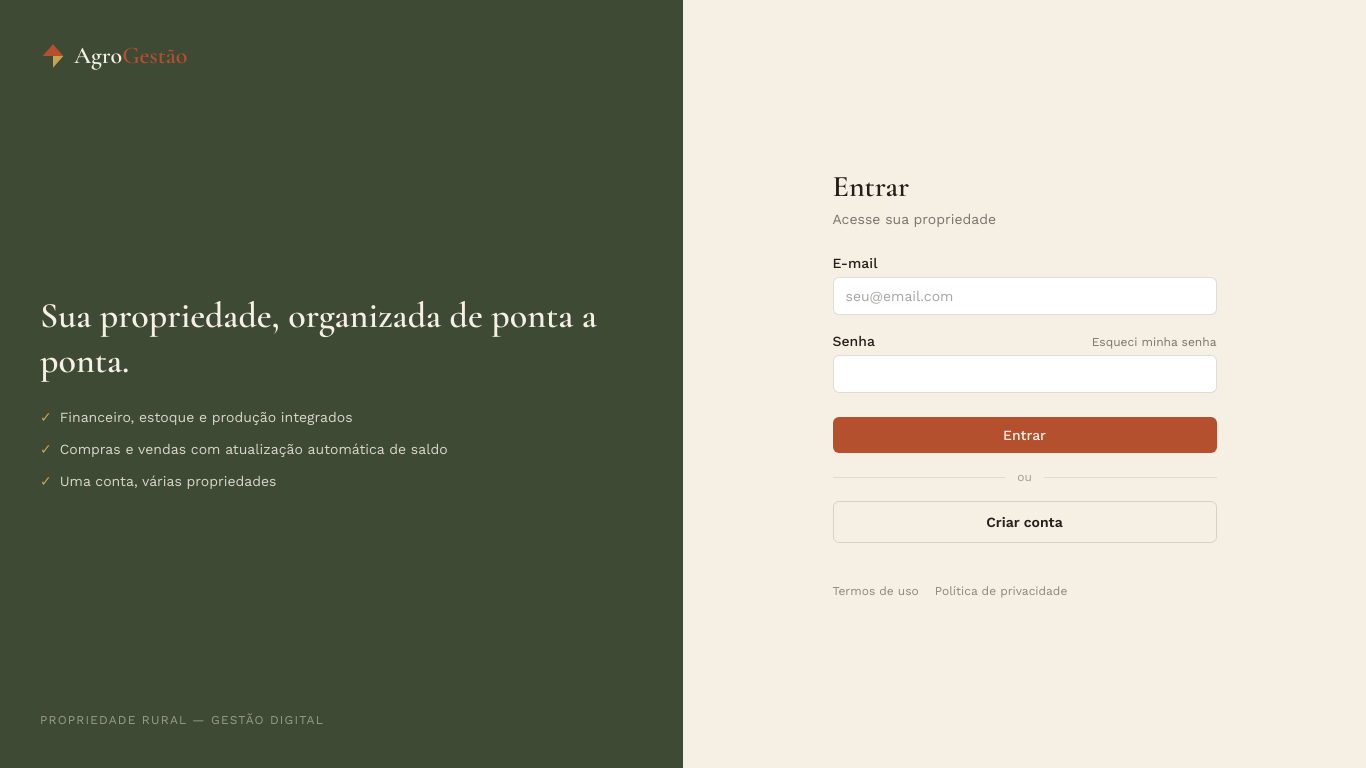
Test: LoginPage › mostra o erro do servidor
Type "ana@teste.dev" into the field labelled "E-mail" at (1024, 296), box left=832, top=277, right=1216, bottom=315
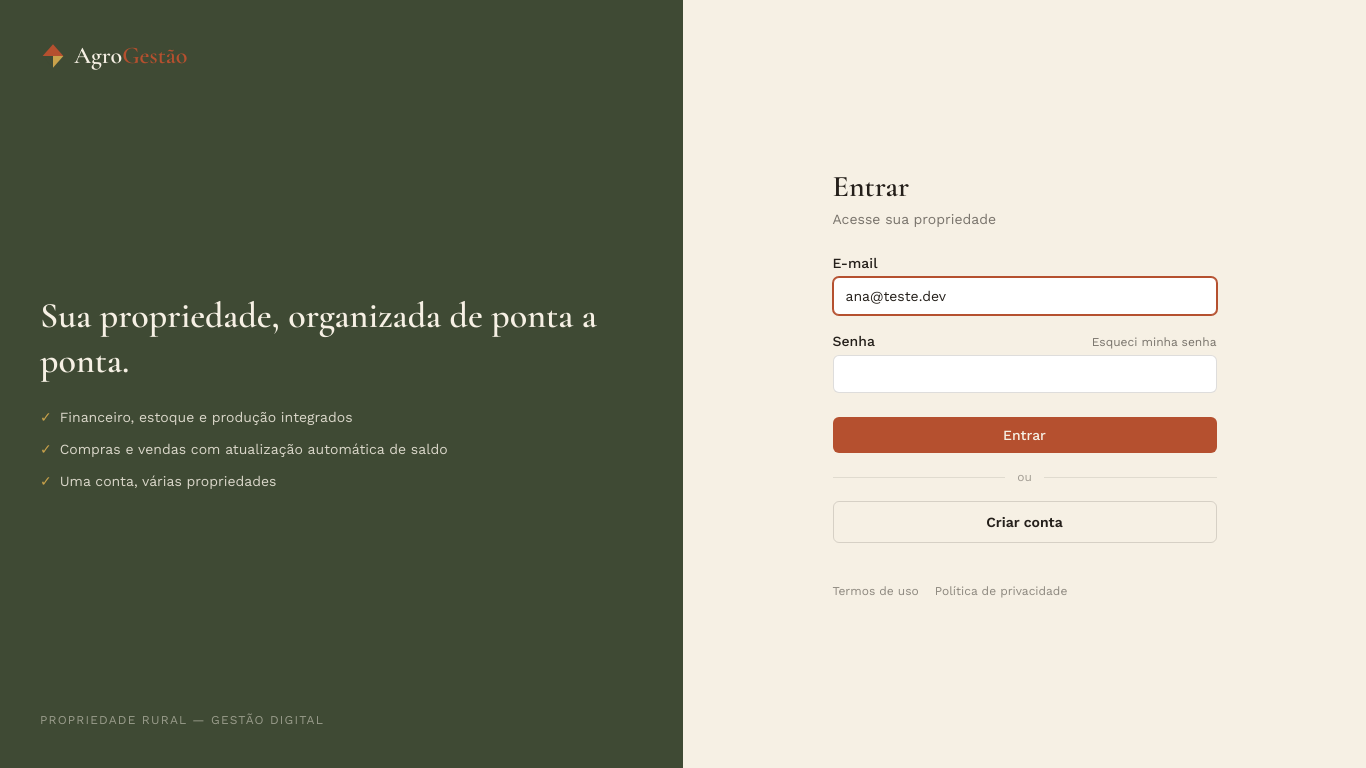
Type "senha1234" into the password field labelled "Senha" at (1024, 374), box left=832, top=355, right=1216, bottom=393
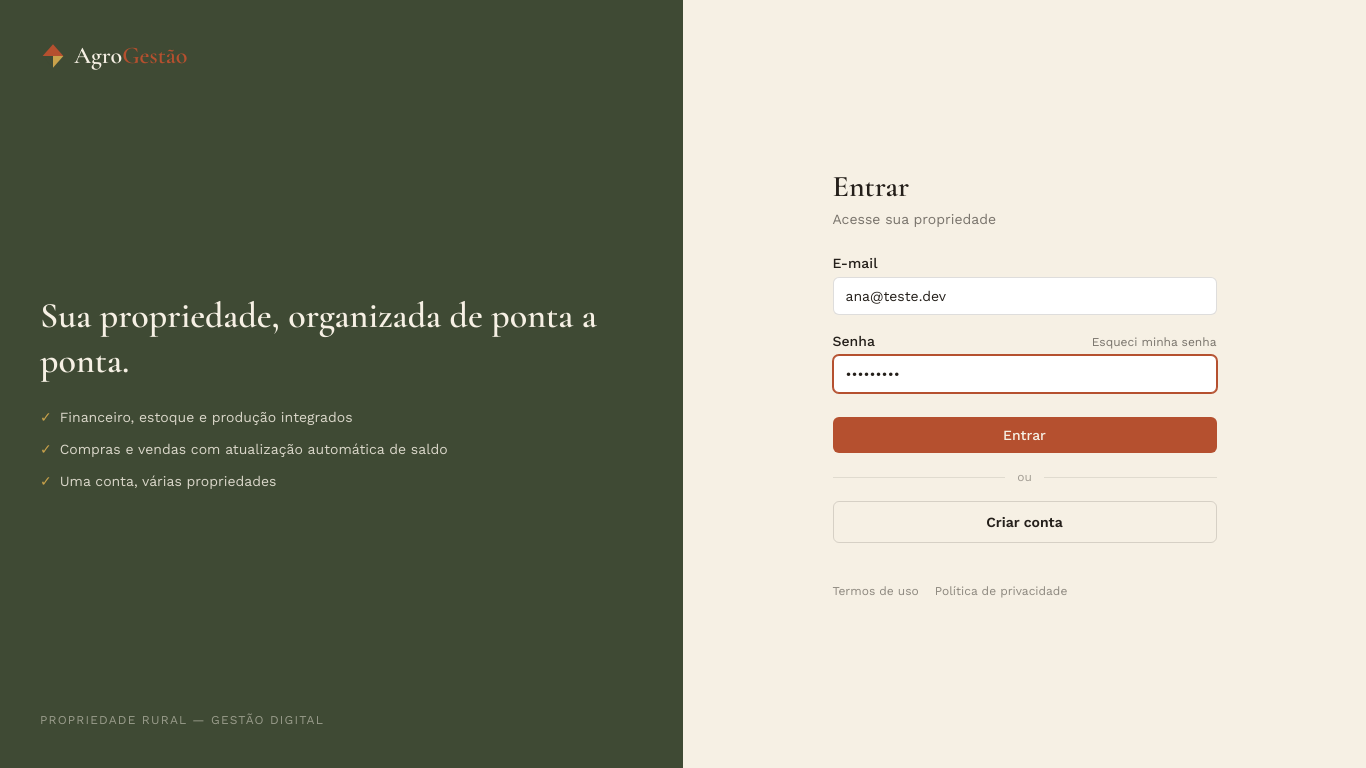
Click the button "Entrar" at (1024, 435), box left=832, top=417, right=1216, bottom=453
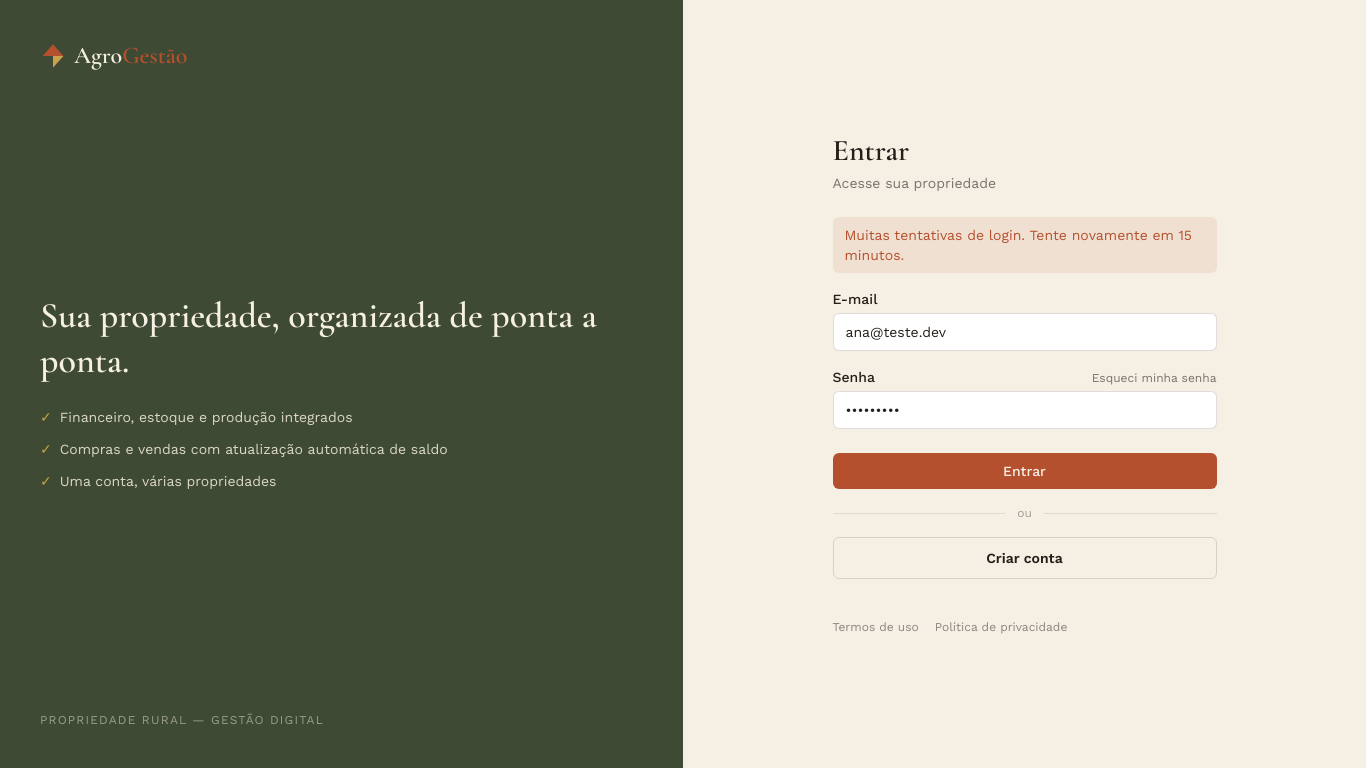
Expected: the text "Muitas tentativas de login. Tente novamente em 15 minutos." is shown, left=832, top=217, right=1216, bottom=273
